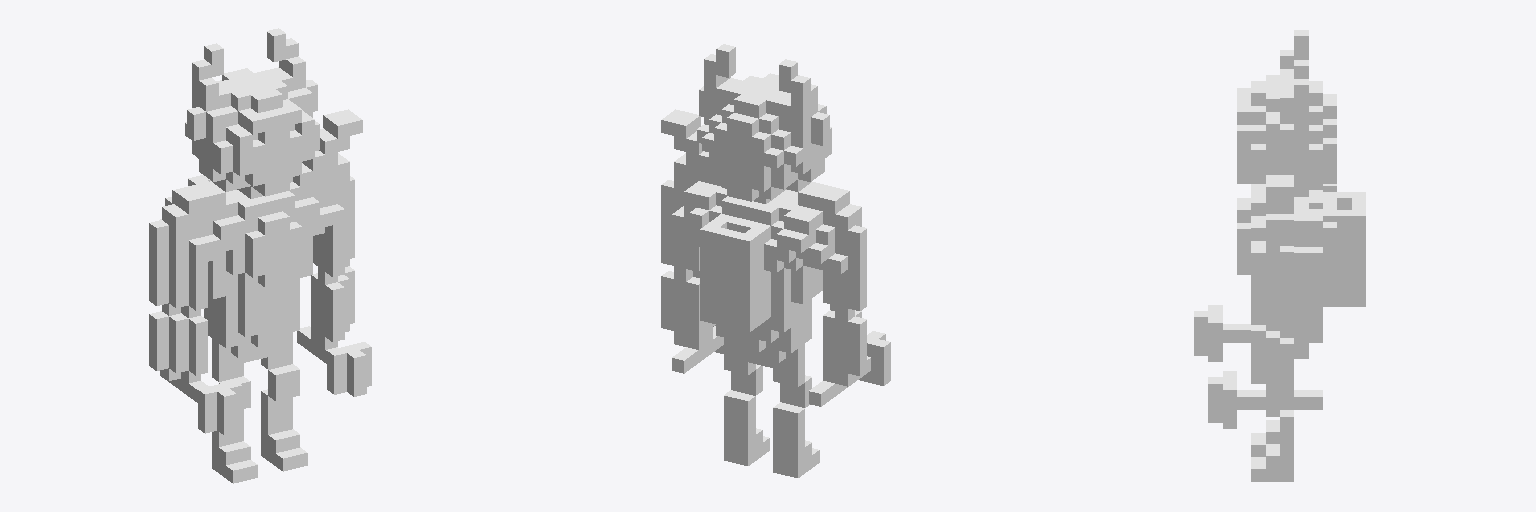
Rendered from mantiy.obj.
3 views of the same model, side by side, from view 1: azimuth 30°, elevation 25°; view 2: azimuth 150°, elevation 25°; view 3: azimuth 270°, elevation 25° (orthographic).
Parts seen in each view (by area): view 1: object 1; view 2: object 1; view 3: object 1.
Part boxes in pixels (left/top/right/bottom): object 1: left=149, top=28, right=371, bottom=483; object 1: left=661, top=44, right=890, bottom=477; object 1: left=1194, top=30, right=1365, bottom=481.
Bounding box in the file's own units: 1.6 × 3.2 × 1.2.